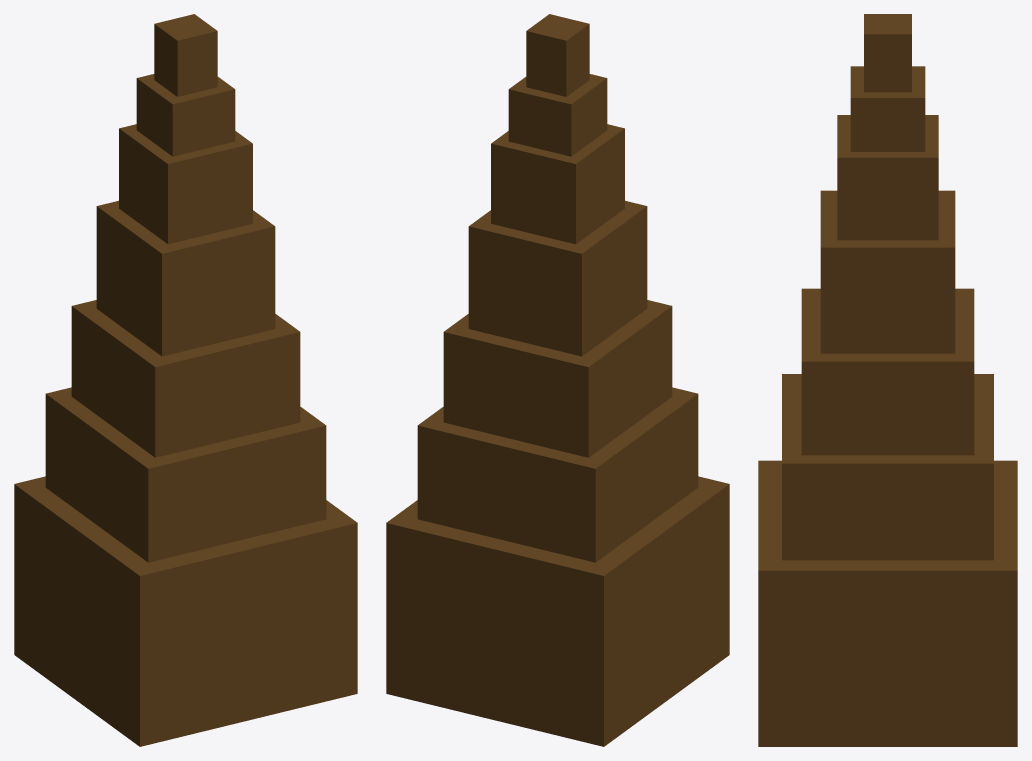
File: Torre.fbx_Collection.fbx
3 views of the same model, side by side, from view 1: azimuth 30°, elevation 25°; view 2: azimuth 150°, elevation 25°; view 3: azimuth 270°, elevation 25° (orthographic). The views are drawn at different scales.
Visible parts, largest first — view 1: Cube.001; view 2: Cube.001; view 3: Cube.001.
Boxes of the visible parts, x1=… form: Cube.001: x1=14, y1=14, x2=357, y2=746; Cube.001: x1=386, y1=14, x2=729, y2=746; Cube.001: x1=758, y1=14, x2=1017, y2=746.
Bounding box in the file's own units: 400 × 1135 × 400.
Materials: 1 (1 with a texture image).
